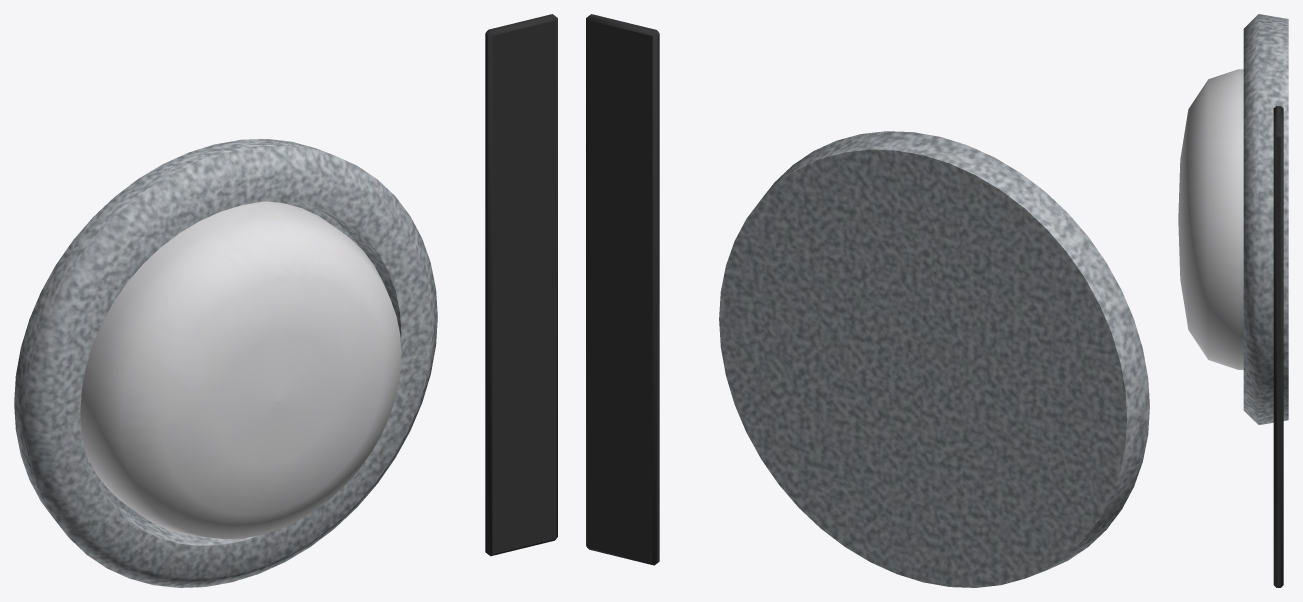
Rendered from button.glb.
3 renders of one model, left to right at view 1: azimuth 30°, elevation 25°; view 2: azimuth 150°, elevation 25°; view 3: azimuth 270°, elevation 25°, orthographic. The views are drawn at different scales.
Visible parts, largest first — view 1: cap, button-base, strip; view 2: button-base, strip; view 3: cap, button-base, strip.
Boxes of the visible parts, left/top/right/bottom form: cap: left=80, top=201, right=401, bottom=538; button-base: left=14, top=139, right=437, bottom=587; strip: left=485, top=14, right=557, bottom=556; button-base: left=719, top=131, right=1149, bottom=587; strip: left=586, top=14, right=659, bottom=565; cap: left=1178, top=69, right=1243, bottom=369; button-base: left=1243, top=14, right=1288, bottom=424; strip: left=1273, top=106, right=1283, bottom=587.
Bounding box in the file's own units: 0.54 × 0.5 × 0.11.
3 materials, 2 textured.
